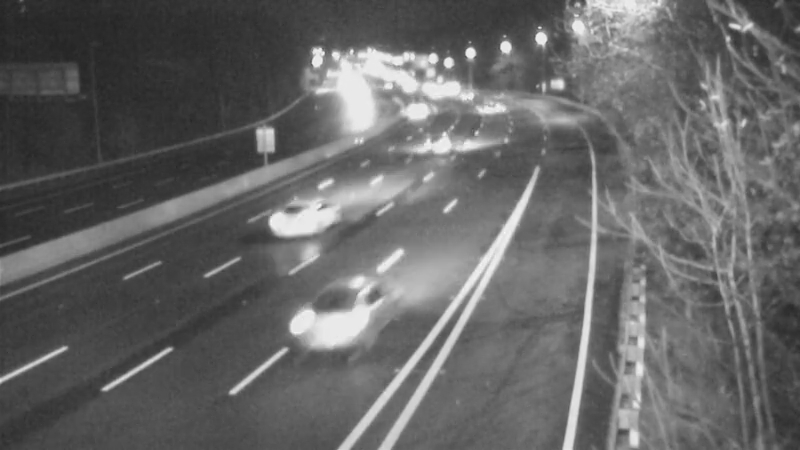vehicle: (276, 277, 386, 387), (251, 183, 331, 263), (441, 72, 491, 122), (391, 80, 441, 130), (458, 82, 508, 132), (417, 119, 467, 169)
